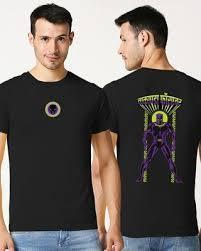Tshirt: (2, 68, 114, 234), (103, 66, 201, 238)
